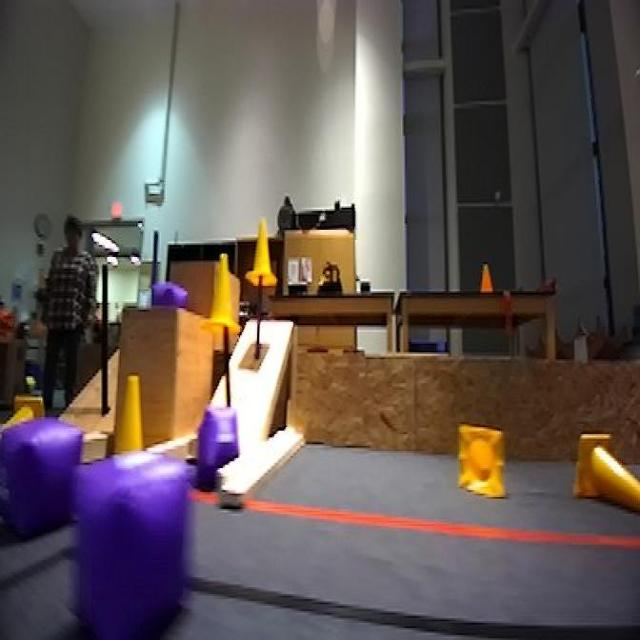frc_cone: (572, 434, 640, 511), (460, 420, 507, 504), (113, 372, 146, 460), (249, 213, 283, 284), (209, 250, 237, 325), (12, 393, 46, 419)
frc_cube: (79, 454, 185, 636), (0, 417, 78, 550), (189, 405, 241, 492), (150, 272, 188, 312)
